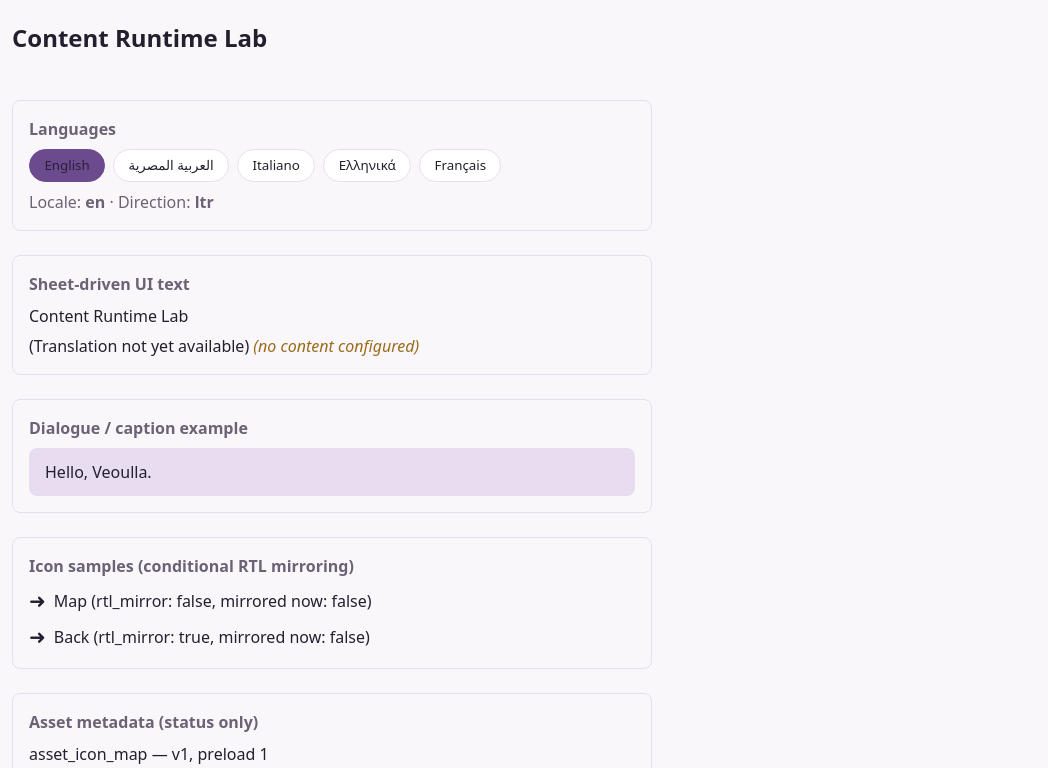
Test: ContentRuntimeLab — switching locale (no reload) › switches all five languages without navigating/reloading the page
Expected: the element with test id "locale-switcher" is shown, [29, 149, 502, 182]
Step 1. Click the button with test id "locale-button-ar-EG" → click(171, 165), box [113, 149, 229, 182]
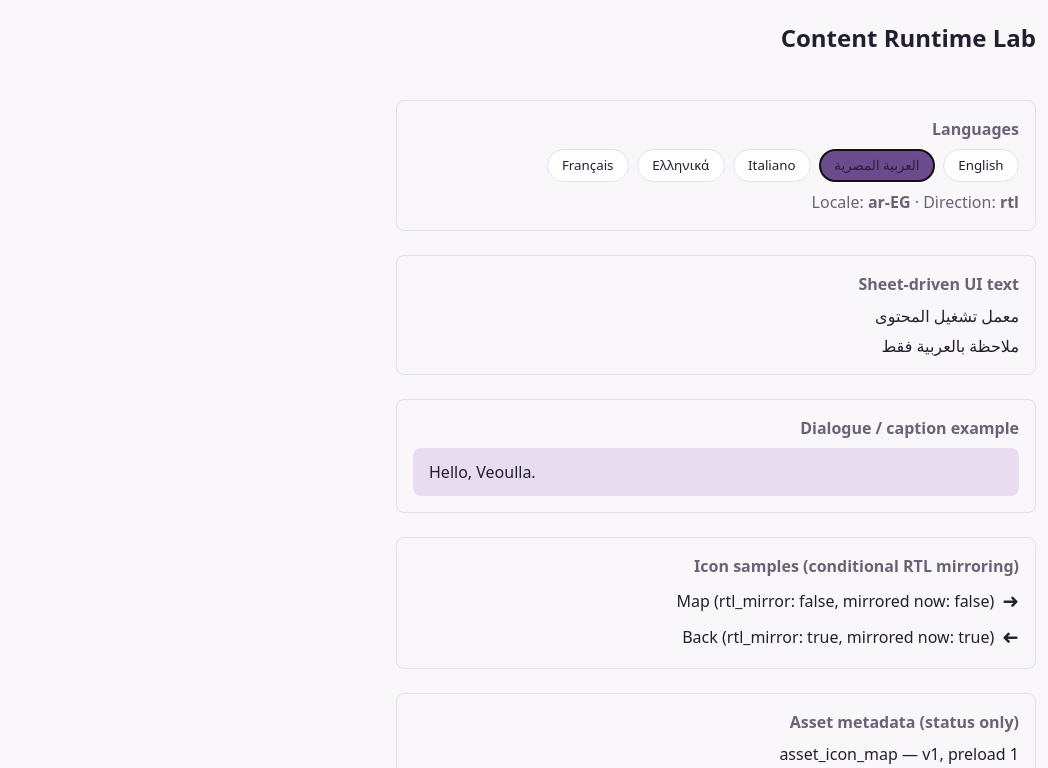
Now the element with test id "current-locale-direction" shows "ar-EG", box [868, 191, 910, 213]
Step 2. Click the button with test id "locale-button-it" → click(772, 165), box [733, 149, 811, 182]
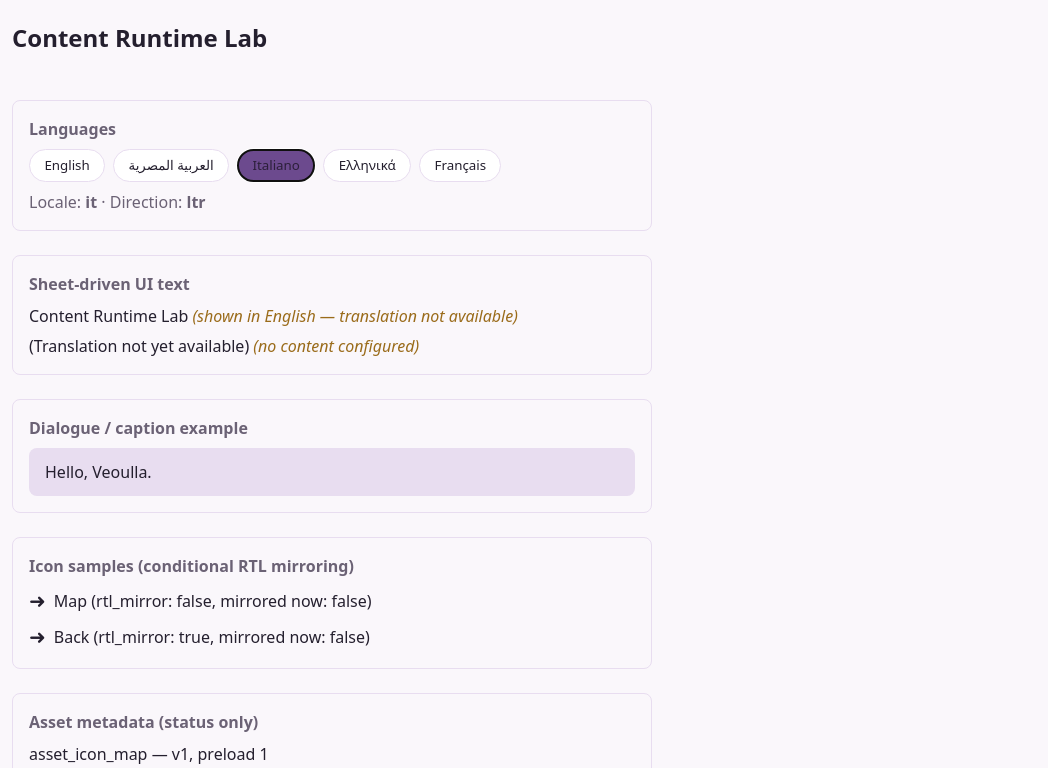
Now the element with test id "current-locale-direction" shows "it", box [85, 191, 97, 213]
Step 3. Click the button "Ελληνικά" → click(367, 165), box [323, 149, 411, 182]
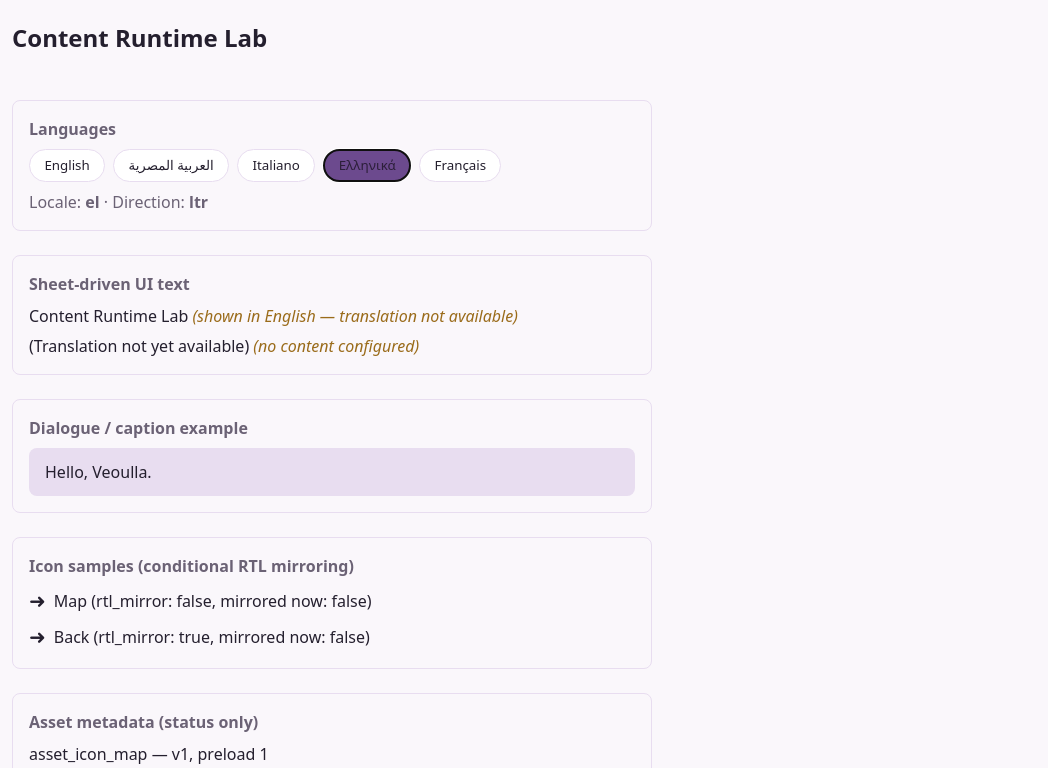
Now the element with test id "current-locale-direction" shows "el", box [85, 191, 100, 213]
Step 4. Click the button with test id "locale-button-fr" → click(460, 165), box [419, 149, 502, 182]
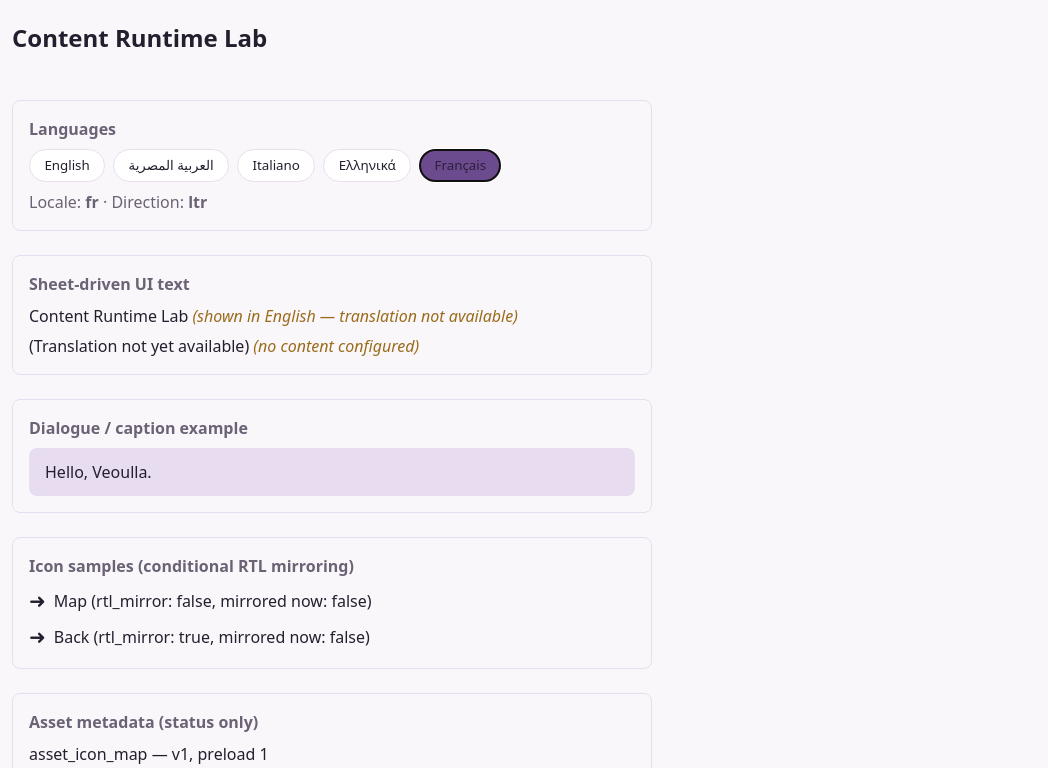
Now the element with test id "current-locale-direction" shows "fr", box [85, 191, 99, 213]
Step 5. Click the button with test id "locale-button-en" → click(67, 165), box [29, 149, 105, 182]
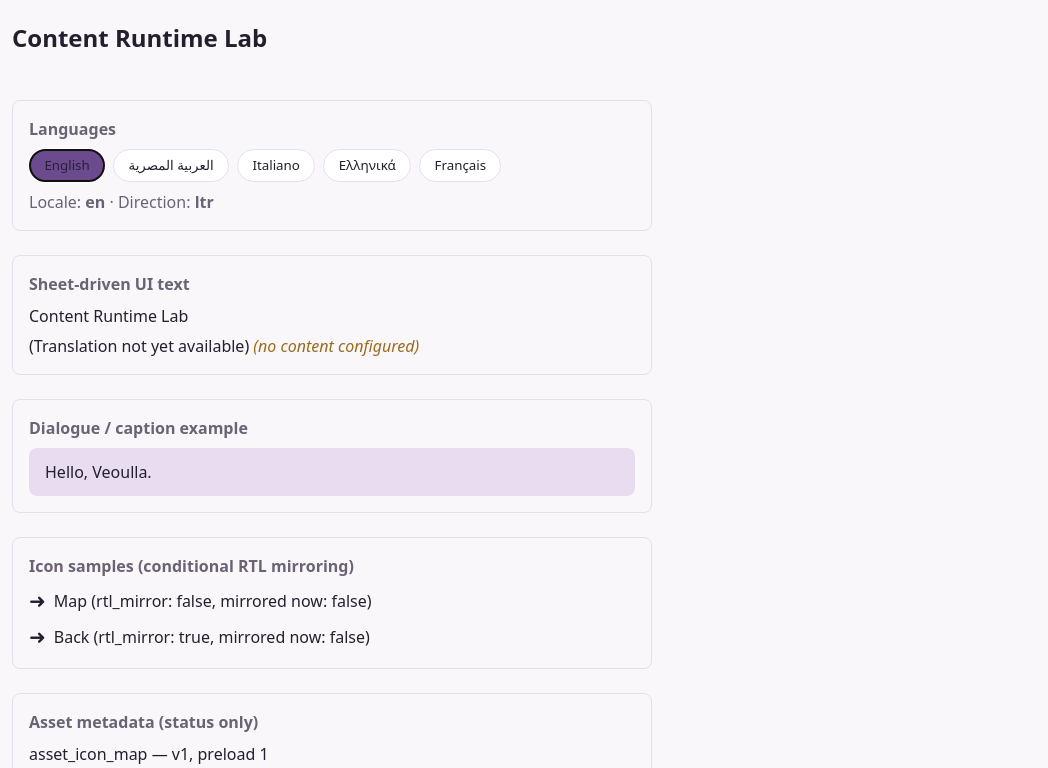
Now the element with test id "current-locale-direction" shows "en", box [85, 191, 105, 213]
